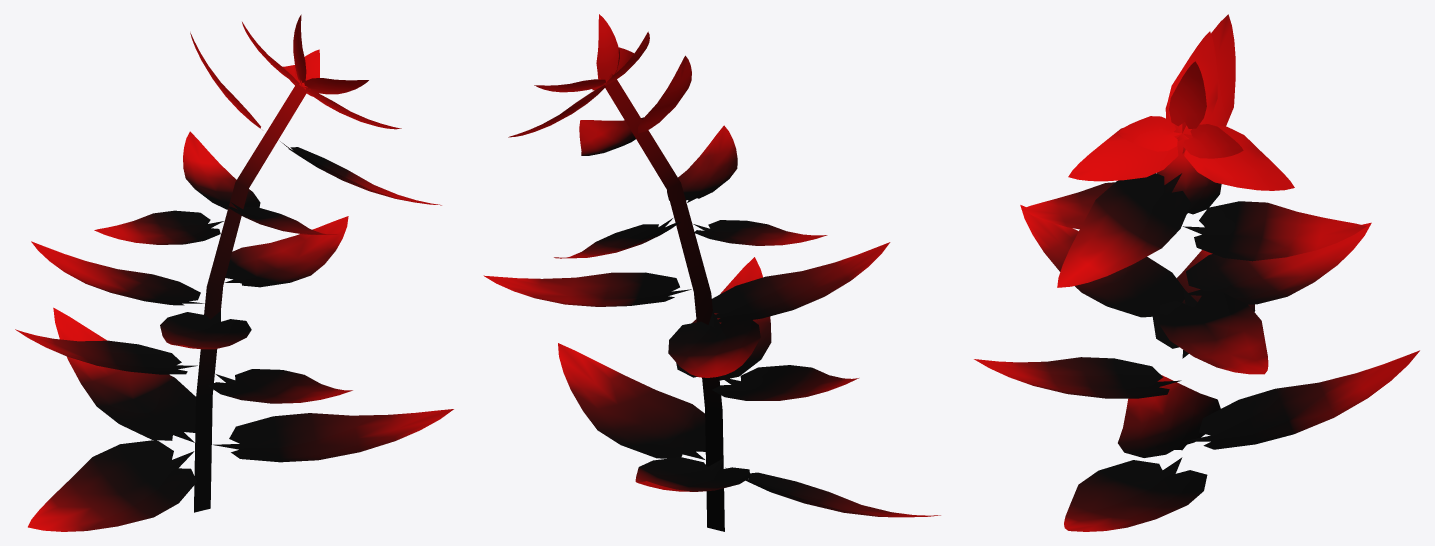
The model's file is SM_Nettle_02_LOD0.fbx.
The picture shows the model from 3 angles, left to right: view 1: azimuth 30°, elevation 25°; view 2: azimuth 150°, elevation 25°; view 3: azimuth 270°, elevation 25°; orthographic projection. The views are drawn at different scales.
Parts seen in each view (by area): view 1: SM_Nettle_02_LOD0; view 2: SM_Nettle_02_LOD0; view 3: SM_Nettle_02_LOD0.
Part boxes in pixels (bbox=[...]): SM_Nettle_02_LOD0: bbox=[15, 14, 453, 531]; SM_Nettle_02_LOD0: bbox=[483, 14, 940, 531]; SM_Nettle_02_LOD0: bbox=[974, 14, 1419, 531].
Bounding box in the file's own units: 123 × 108 × 139.
